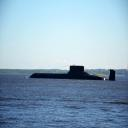submarine: (30, 63, 123, 81)
